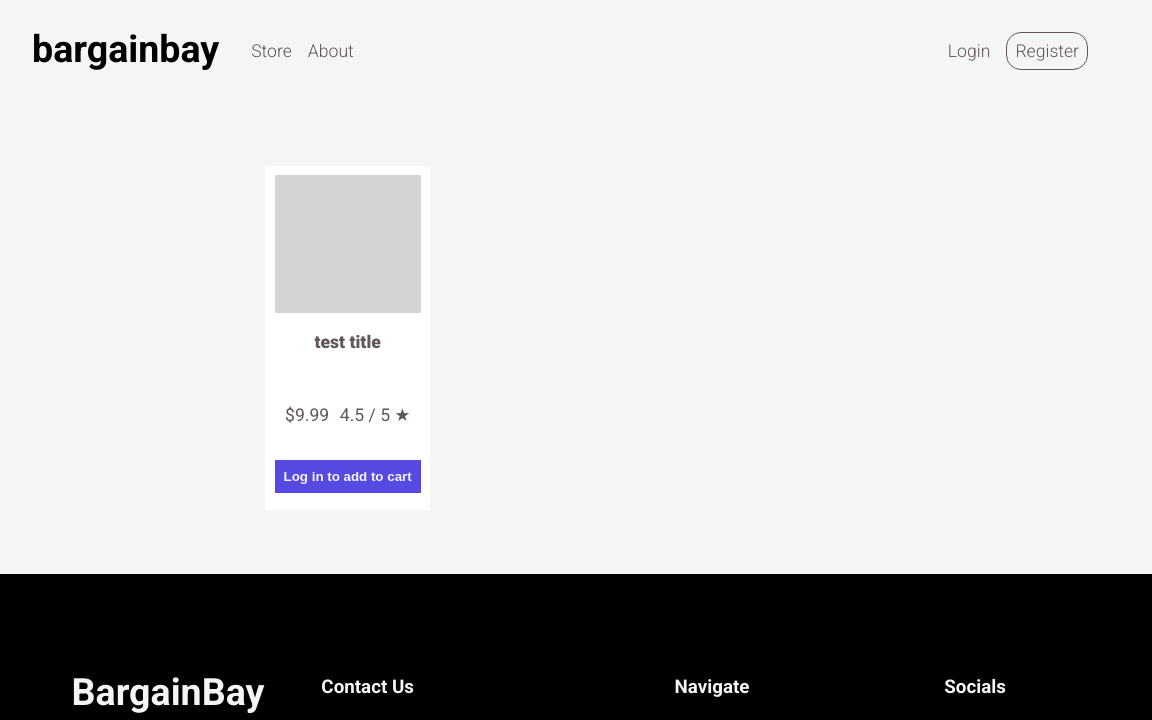
Test: Register › shows passwords do not match
Click the text "Register" at (1047, 51), box left=1015, top=41, right=1079, bottom=61
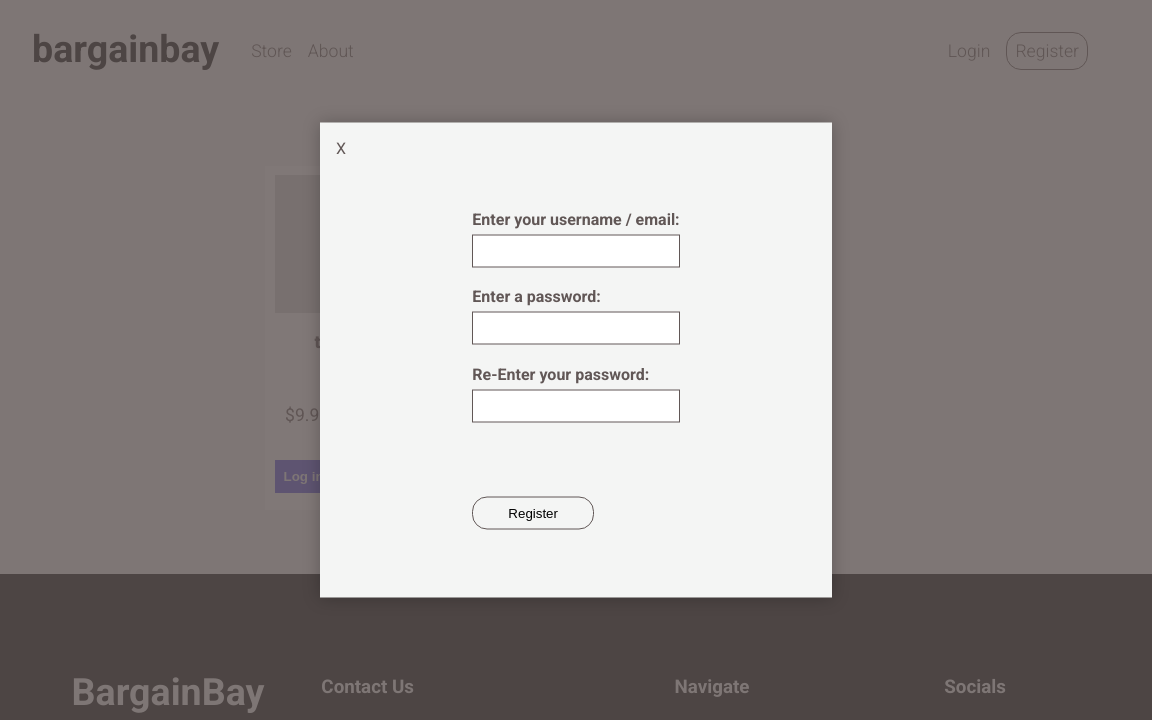
Type "helloworld" into the field named "username" at (576, 251), box left=472, top=234, right=679, bottom=267
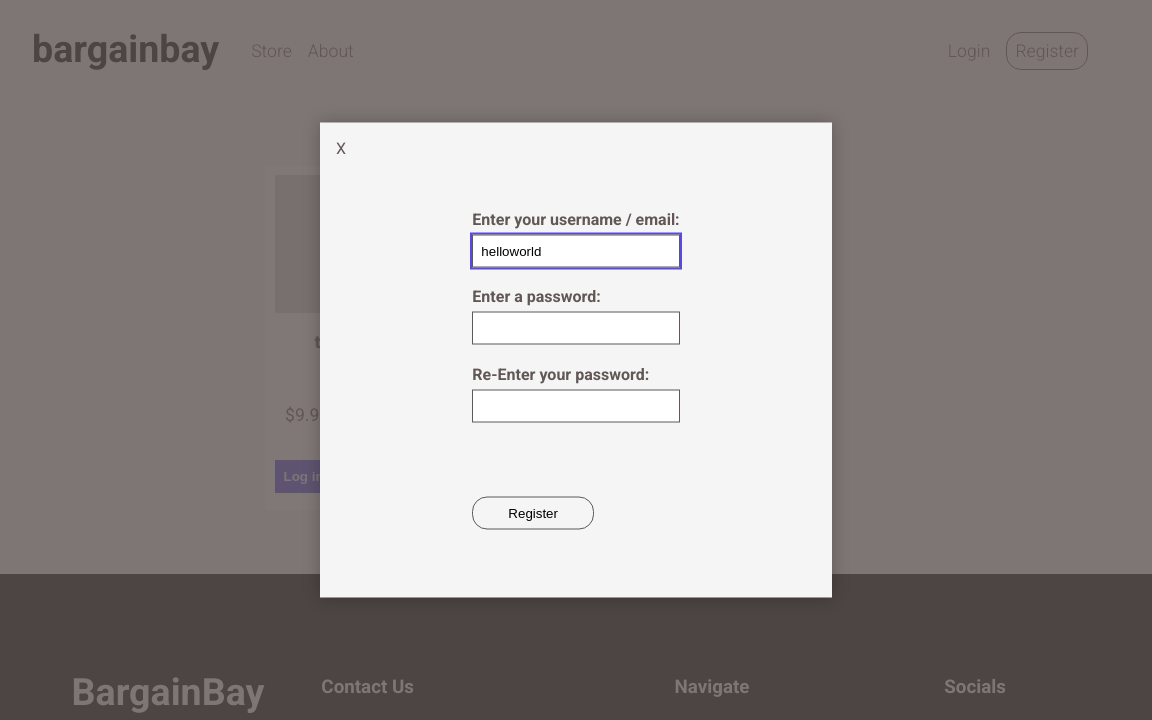
Type "testpassword" into the password field named "password" below "Enter a password:" at (576, 329), box left=472, top=312, right=679, bottom=345
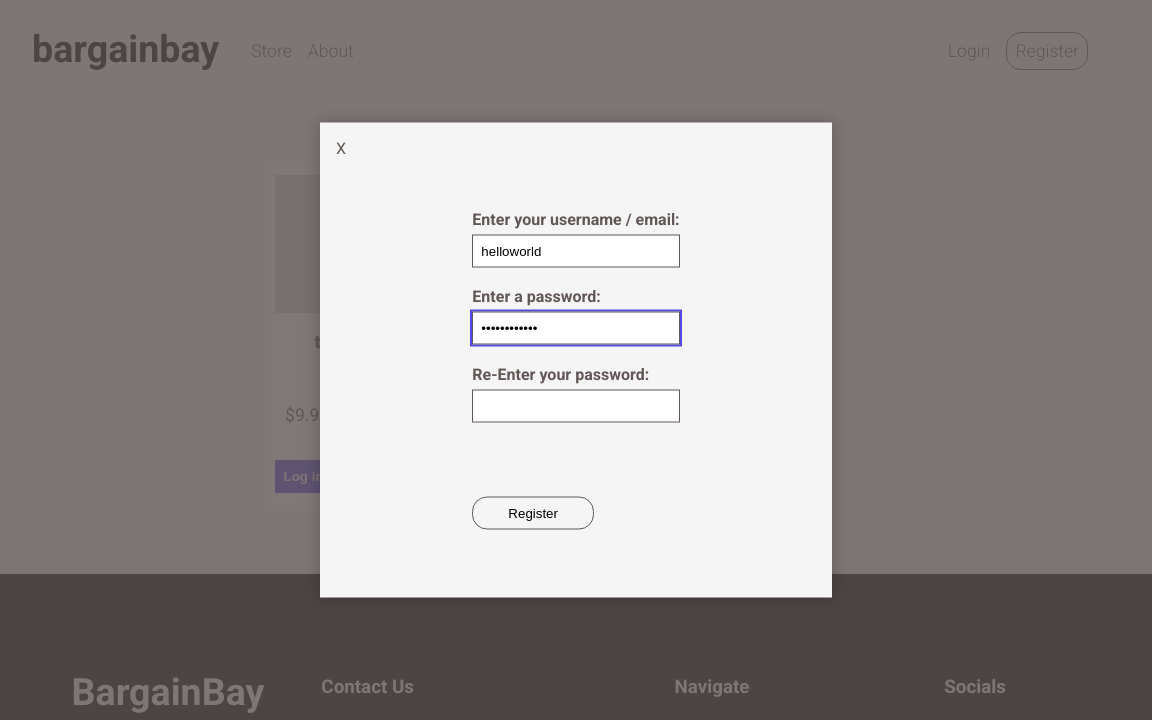
Type "testpassword2" into the password field named "password2" below "Re-Enter your password:" at (576, 406), box left=472, top=389, right=679, bottom=422
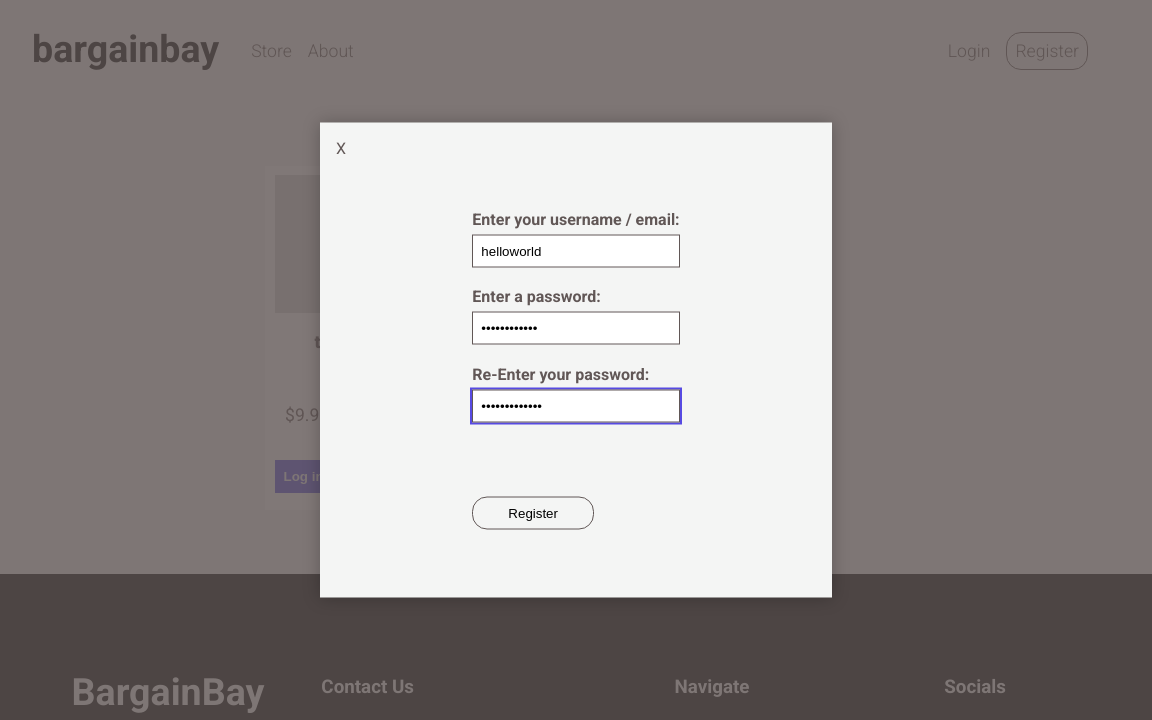
Click the button with class "button__1" showing "Register" at (533, 514), box left=472, top=497, right=594, bottom=530
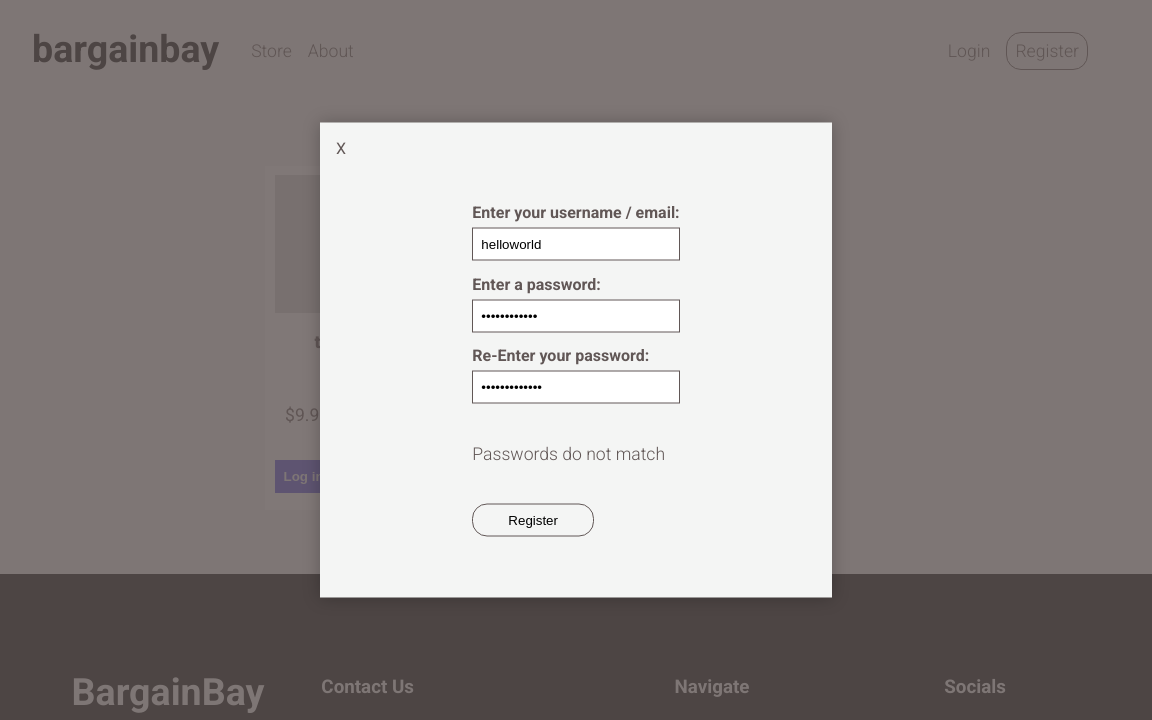
Check: the text "Passwords do not match" is shown, box left=472, top=443, right=665, bottom=463
